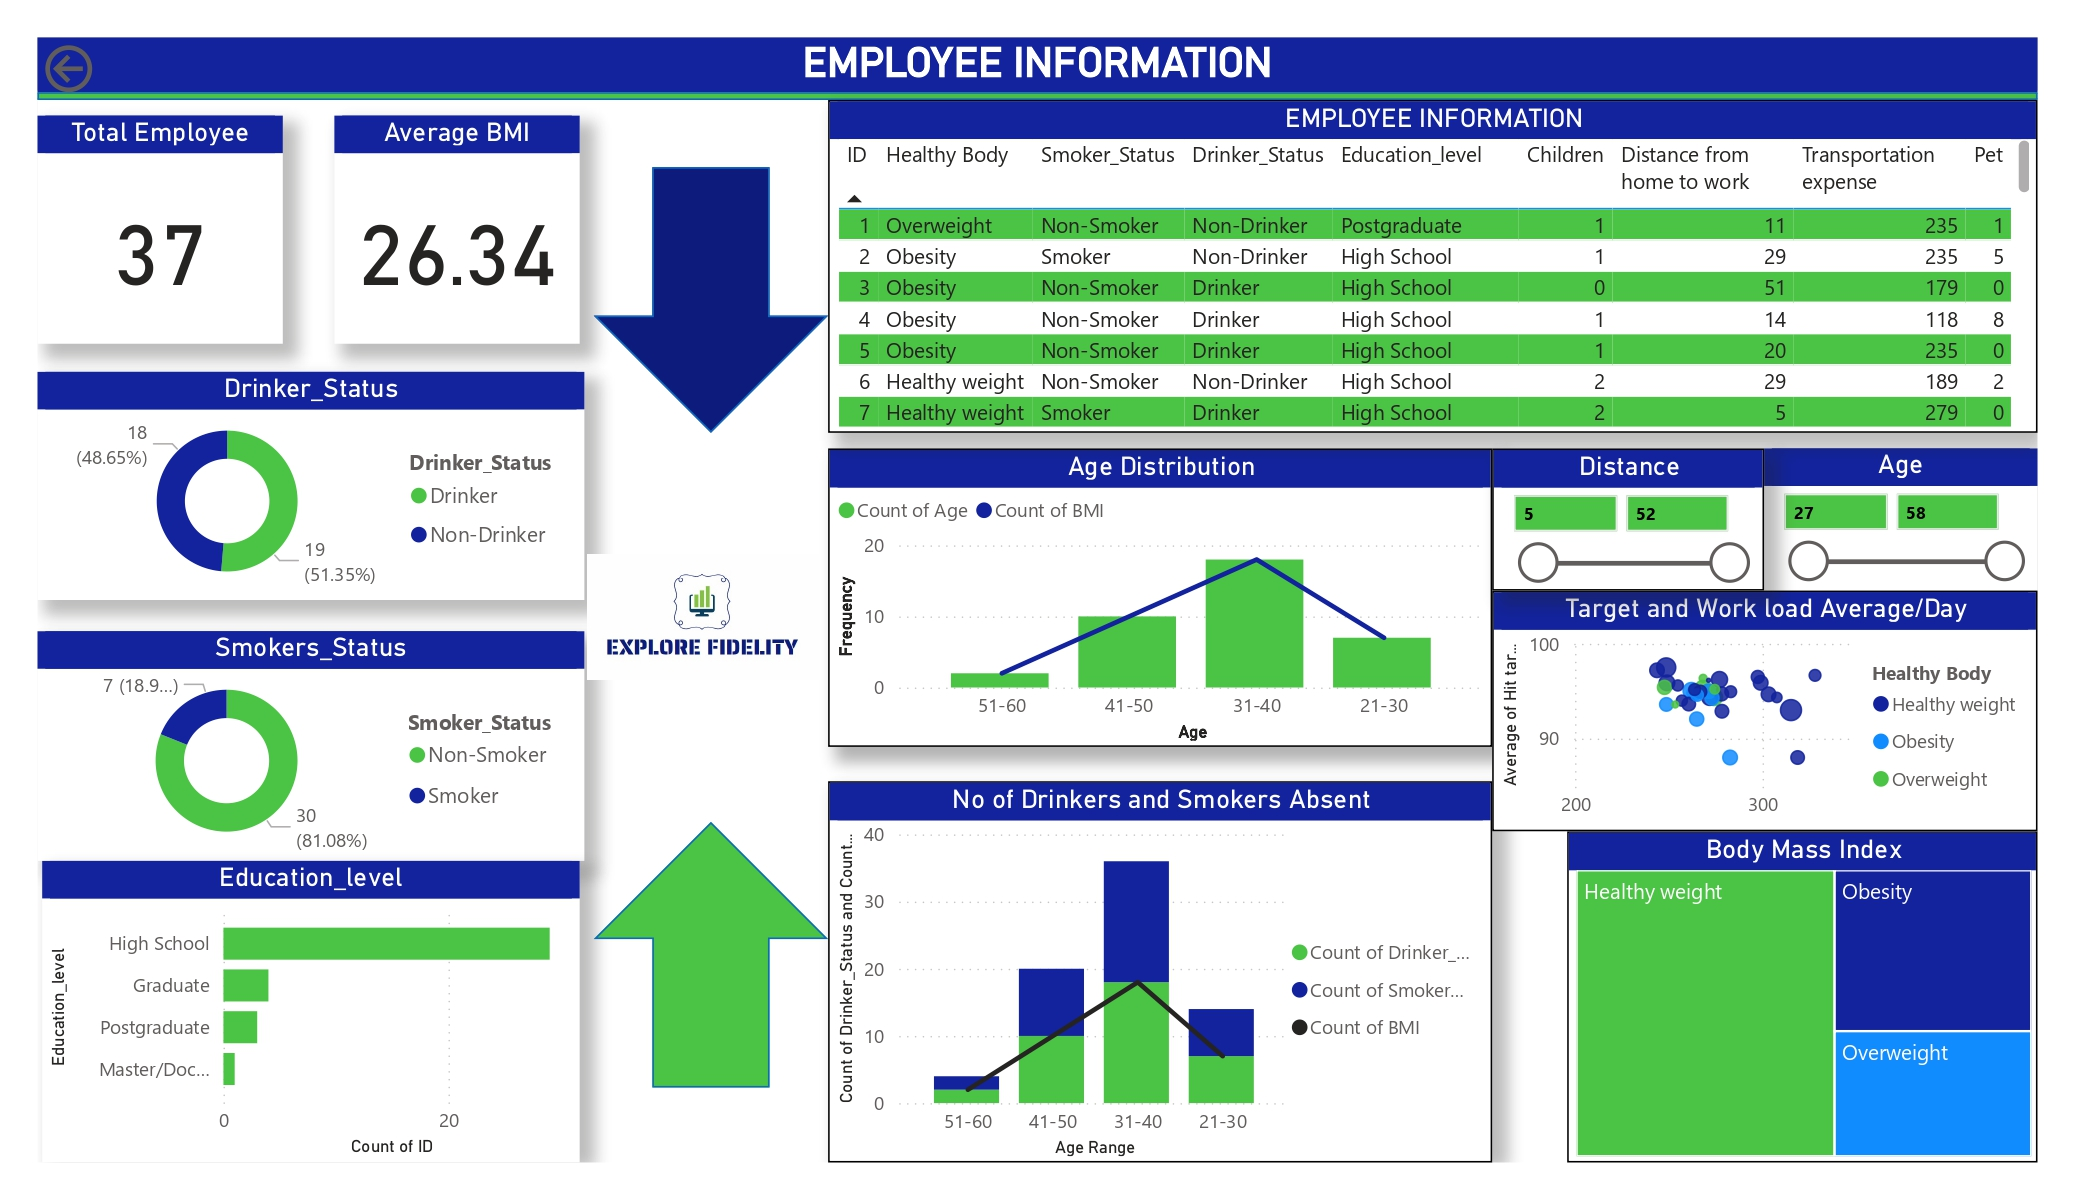

What the dashboard file says about the page in this screenshot:
{"tool":"powerbi","page":{"name":"Employee info","canvas":[1280,720],"ordinal":0},"visuals":[{"type":"shape","title":"EMPLOYEE INFORMATION","box":[0,0,1280.5,39.5],"z":0},{"type":"card","title":"Total Employee","fields":{"Values":["CountNonNull(Employee_info.ID)"]},"box":[0,49.8,156.6,146.3],"z":1000},{"type":"donutChart","title":"Drinker_Status","fields":{"Category":["Employee_info.Drinker_Status"],"Y":["CountNonNull(Employee_info.Drinker_Status)"]},"box":[0,213.7,349.8,146.3],"z":2000},{"type":"donutChart","title":"Smokers_Status","fields":{"Category":["Employee_info.Smoker_Status"],"Y":["CountNonNull(Employee_info.Smoker_Status)"]},"box":[0,380,350,146.7],"z":3000},{"type":"barChart","title":"Education_level","fields":{"Category":["Employee_info.Education_level"],"Y":["CountNonNull(Employee_info.ID)"]},"box":[3.3,526.7,343.3,193.3],"z":4000},{"type":"actionButton","box":[0,0,100,40],"z":5000},{"type":"lineClusteredColumnComboChart","title":"Age Distribution","fields":{"Category":["Employee_info.Age Range"],"Y":["CountNonNull(Employee_info.Age)"],"Y2":["CountNonNull(Employee_info.BMI)"]},"box":[506.3,263.4,424.4,190.2],"z":6000},{"type":"card","title":"Average BMI","fields":{"Values":["Avg(Employee_info.BMI)"]},"box":[190.2,49.8,156.6,146.3],"z":7000},{"type":"slicer","title":"Age","fields":{"Values":["Employee_info.Age"]},"box":[1104.9,263.4,175.6,90.7],"z":8000},{"type":"tableEx","title":"EMPLOYEE INFORMATION","fields":{"Values":["Employee_info.ID","Employee_info.Healthy Body","Employee_info.Smoker_Status","Employee_info.Drinker_Status","Employee_info.Education_level","Employee_info.Children","Employee_info.Distance from home to work","Employee_info.Transportation expense","Employee_info.Pet"]},"box":[506.3,39.5,774.1,213.7],"z":9000},{"type":"treemap","title":"Body Mass Index","fields":{"Values":["CountNonNull(Employee_info.Healthy Body)"],"Group":["Employee_info.Healthy Body"]},"box":[979,507.8,301.5,212.2],"z":10000},{"type":"lineStackedColumnComboChart","title":"No of Drinkers and Smokers Absent","fields":{"Y":["CountNonNull(Employee_info.Drinker_Status)","CountNonNull(Employee_info.Smoker_Status)"],"Category":["Employee_info.Age Range"],"Y2":["CountNonNull(Employee_info.BMI)"]},"box":[506.3,475.6,424.4,244.4],"z":11000},{"type":"shape","box":[355.6,83.4,150.7,169.8],"z":12000},{"type":"shape","box":[355.6,502,150.7,169.8],"z":13000},{"type":"scatterChart","title":"Target and Work load Average/Day","fields":{"X":["Avg(Absenteeisms.Work load Average/day)"],"Y":["Avg(Absenteeisms.Hit target)"],"Size":["Avg(Absenteeisms.Service time)"],"Category":["Absenteeisms.ID"],"Series":["Employee_info.Healthy Body"]},"box":[930.7,354.1,349.8,153.7],"z":14000},{"type":"slicer","title":"Distance","fields":{"Values":["Employee_info.Distance from home to work"]},"box":[930.7,263.4,174.1,90.7],"z":15000},{"type":"image","box":[346.8,286.8,159.5,166.8],"z":16000}]}

Visuals, with their boxes in screenshot pixels (x1, y1, x2, y2):
"EMPLOYEE INFORMATION" shape: locate(38, 38, 2038, 99)
"Total Employee" card: locate(38, 115, 282, 344)
"Drinker_Status" donutChart: locate(38, 371, 584, 600)
"Smokers_Status" donutChart: locate(38, 631, 584, 860)
"Education_level" barChart: locate(43, 860, 579, 1162)
actionButton: locate(38, 38, 194, 100)
"Age Distribution" lineClusteredColumnComboChart: locate(829, 449, 1492, 746)
"Average BMI" card: locate(335, 115, 579, 344)
"Age" slicer: locate(1764, 449, 2038, 591)
"EMPLOYEE INFORMATION" tableEx: locate(829, 99, 2038, 433)
"Body Mass Index" treemap: locate(1567, 831, 2038, 1162)
"No of Drinkers and Smokers Absent" lineStackedColumnComboChart: locate(829, 781, 1492, 1162)
shape: locate(593, 168, 829, 433)
shape: locate(593, 822, 829, 1087)
"Target and Work load Average/Day" scatterChart: locate(1492, 591, 2038, 831)
"Distance" slicer: locate(1492, 449, 1764, 591)
image: locate(579, 486, 829, 746)
